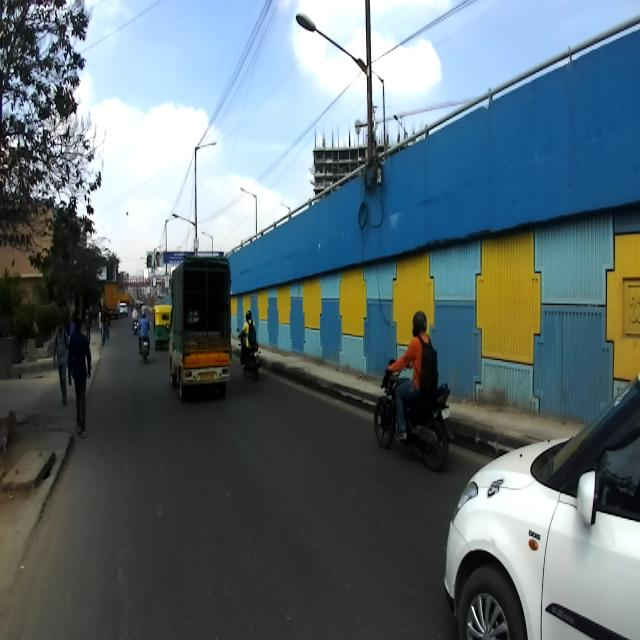auto ahead at: (166, 260, 236, 394)
car ahead at: (439, 363, 640, 640)
motorcycle ahead at: (374, 360, 452, 470)
person ahead at: (66, 310, 91, 433), (48, 314, 72, 396)
